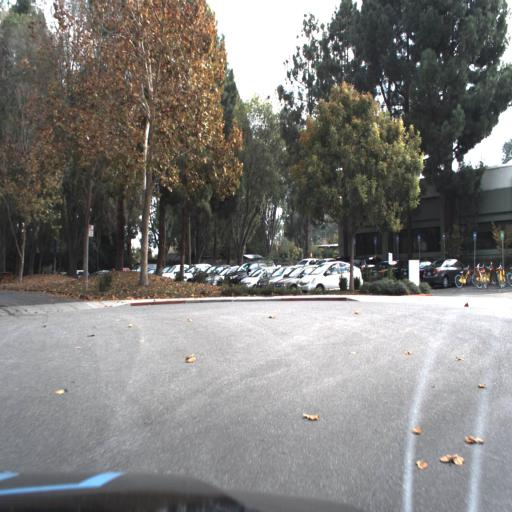car: (295, 260, 361, 293), (421, 255, 474, 291), (274, 260, 321, 297), (240, 265, 289, 297)
